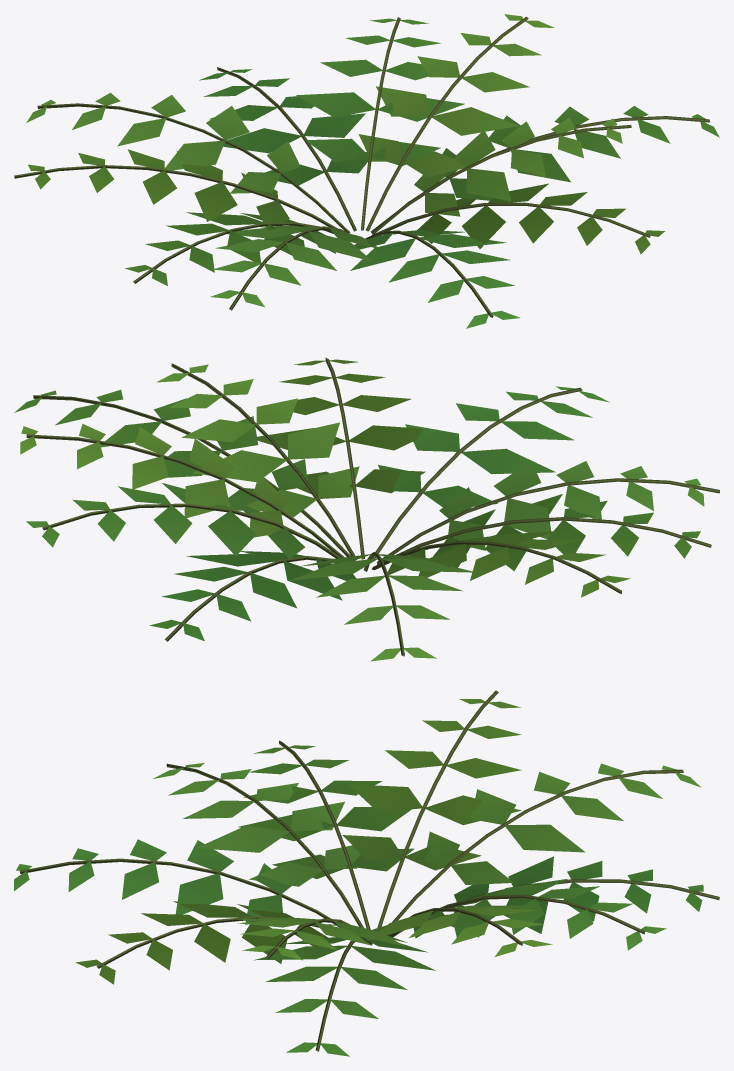
File: fern-lady-b.lod1.glb
3 views of the same model, one above another, from view 1: azimuth 30°, elevation 25°; view 2: azimuth 150°, elevation 25°; view 3: azimuth 270°, elevation 25° (orthographic). The views are drawn at different scales.
Parts seen in each view (by area): view 1: fern-lady-b.lod1; view 2: fern-lady-b.lod1; view 3: fern-lady-b.lod1.
Part boxes in pixels (box(x1,y1,x2,y2)): fern-lady-b.lod1: box(14, 14, 719, 328); fern-lady-b.lod1: box(14, 357, 719, 661); fern-lady-b.lod1: box(14, 690, 719, 1056).
Size of the model in its own units: 1.76 by 0.3063 by 1.62.
